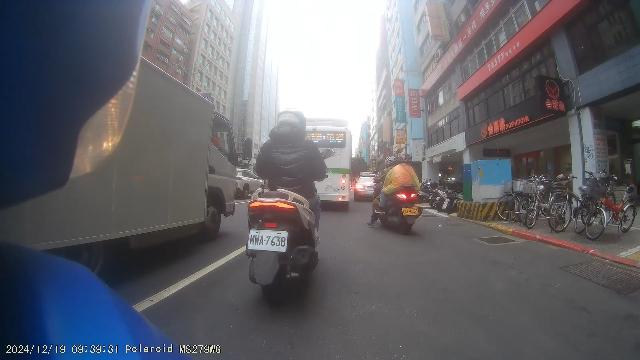plate: (402, 207, 419, 215)
